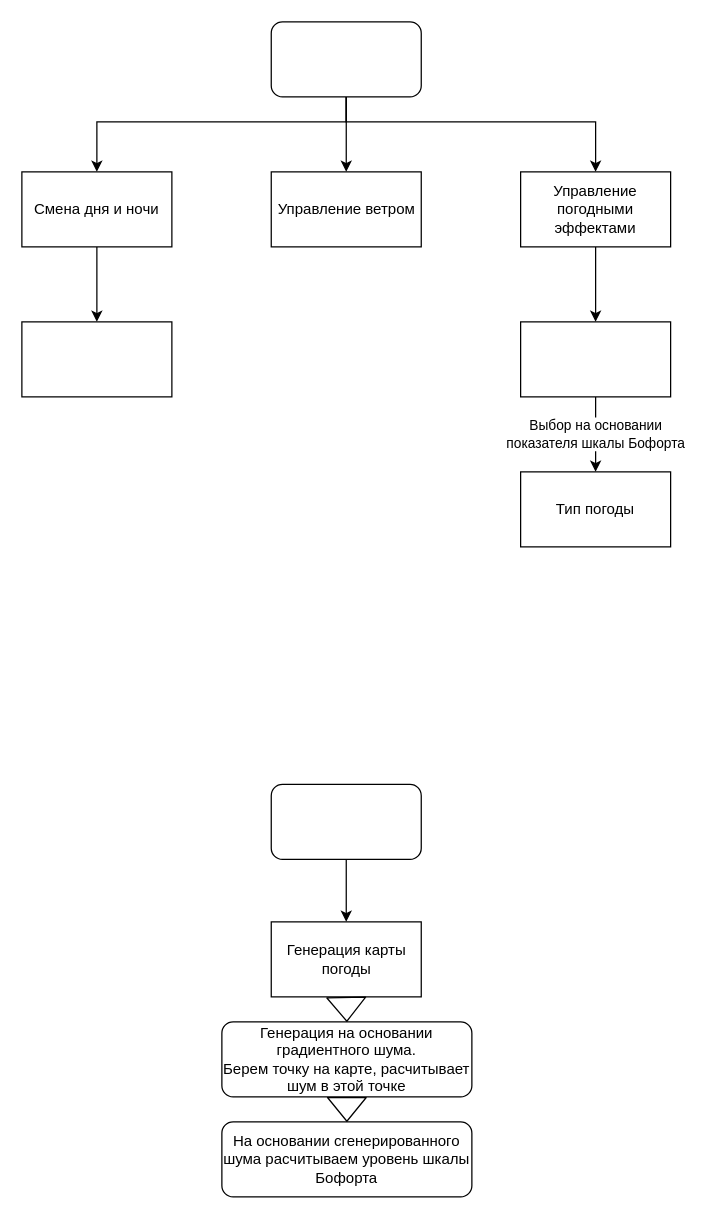
Image size: 706x1219. Some labels were removed from this diagram. Each missing label, with the centre of its shape:
"Выбор определенного вида погоды" goes at point (595, 359).
"Глобальная характеристика времени" goes at point (96, 359).
"Карта Погоды" goes at point (345, 821).
"Система Погоды" goes at point (345, 59).
